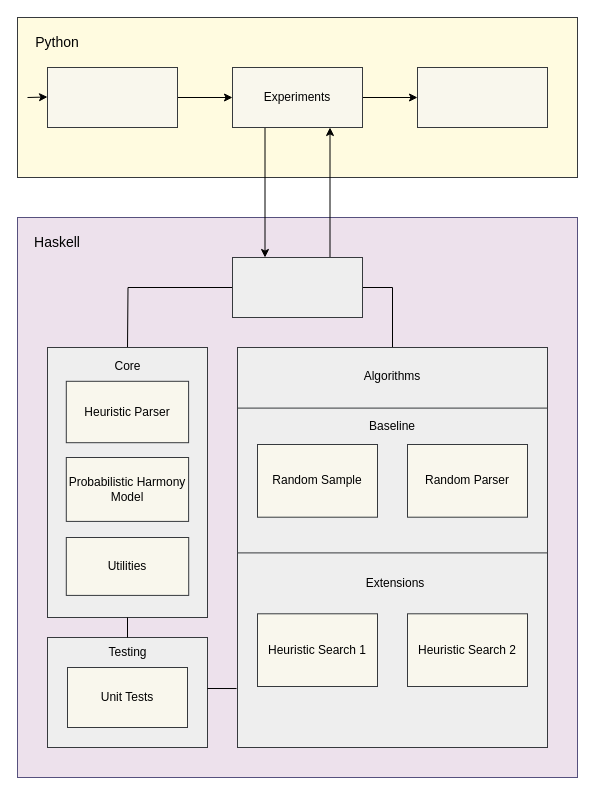
Image size: 595x803. Some labels were removed from this diagram. The shapes that lost their labels are listed below. From the top down, each one's box as (x1, y1, x2, y2) in pixels, then its label:
(46, 66, 178, 128): Pre-process
(416, 66, 548, 128): Analysis
(232, 256, 362, 318): Main.hs
